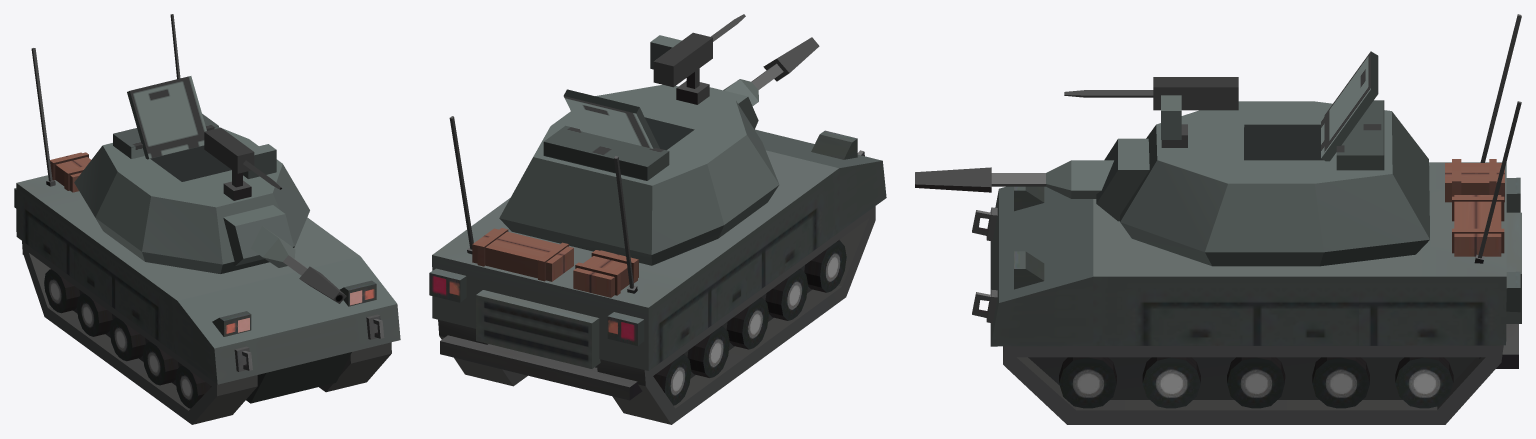
The model's file is tank03.FBX.
The picture shows the model from 3 angles, left to right: view 1: azimuth 30°, elevation 25°; view 2: azimuth 150°, elevation 25°; view 3: azimuth 270°, elevation 25°; orthographic projection. The views are drawn at different scales.
Parts seen in each view (by area): view 1: tank03; view 2: tank03; view 3: tank03.
Boxes of the visible parts, x1,y1,x2,y2 form: tank03: (14, 14, 400, 424); tank03: (429, 14, 886, 424); tank03: (915, 14, 1521, 424).
Size of the model in its own units: 4.36 by 5.54 by 9.76.
